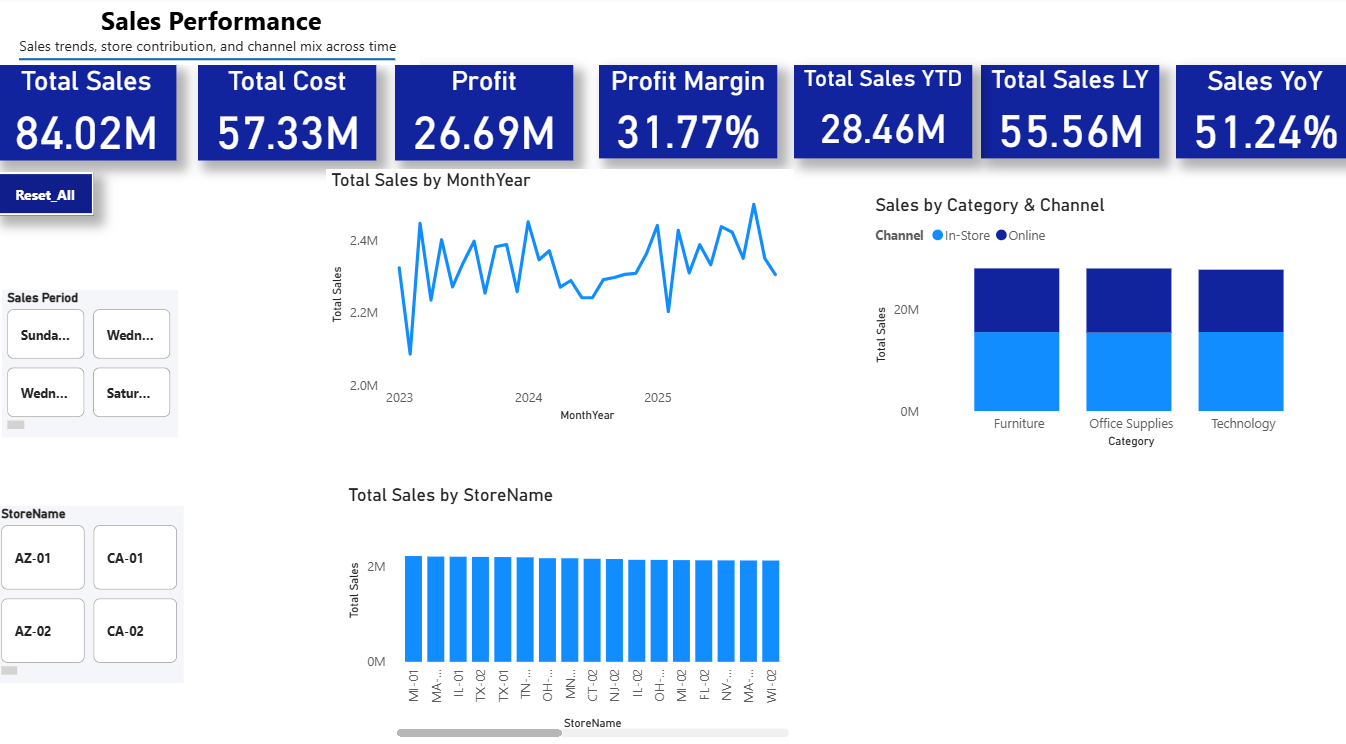

This screenshot's page, from the dashboard's own definition file:
{"tool":"powerbi","page":{"name":"Sales Performance","canvas":[1280,720],"ordinal":1},"visuals":[{"type":"card","title":"Total Sales","fields":{"Values":["_Measures.Total Sales"]},"box":[0,64,170,90],"z":0},{"type":"card","title":"Total Cost","fields":{"Values":["_Measures.Total Cost"]},"box":[190,64,168,90],"z":1000},{"type":"card","title":"Profit","fields":{"Values":["_Measures.Profit"]},"box":[376,64,168,90],"z":2000},{"type":"card","title":"Profit Margin","fields":{"Values":["_Measures.Profit Margin %"]},"box":[568,64,168,88],"z":3000},{"type":"advancedSlicerVisual","fields":{"Values":["DimStore.StoreName"]},"box":[0,480.1,176.6,166.7],"z":4000},{"type":"advancedSlicerVisual","title":"Sales Period","fields":{"Values":["DimDate.MonthYear"]},"box":[5.4,276.3,165.8,138.6],"z":5000},{"type":"card","title":"Sales YoY","fields":{"Values":["_Measures.Sales YoY %"]},"box":[1112,64,168,88],"z":6000},{"type":"card","title":"Total Sales LY","fields":{"Values":["_Measures.Total Sales LY"]},"box":[928,64,168,88],"z":7000},{"type":"card","title":"Total Sales YTD","fields":{"Values":["_Measures.Total sales YTD"]},"box":[752,64,168,88],"z":8000},{"type":"textbox","box":[0,0,399.4,63.6],"z":9000},{"type":"shape","box":[21.5,53.7,354.6,9.9],"z":10000},{"type":"clusteredColumnChart","fields":{"Category":["DimStore.StoreName"],"Y":["_Measures.Total Sales"]},"box":[326.9,459.4,425.4,243.6],"z":11000},{"type":"lineChart","fields":{"Category":["DimDate.MonthYear"],"Y":["_Measures.Total Sales"]},"box":[310.7,162.1,441.5,242.7],"z":12000},{"type":"columnChart","title":"Sales by Category &  Channel","fields":{"Category":["DimProduct.Category"],"Y":["_Measures.Total Sales"],"Series":["FactSales.Channel"]},"box":[823.9,185.4,441.5,243.6],"z":13000},{"type":"actionButton","box":[0,164.9,92.4,40.8],"z":14000}]}

Visuals, with their boxes in screenshot pixels (x1, y1, x2, y2), scaled from the page's 1280x720 canvas onto the 1346x744 screenshot:
"Total Sales" card: [0,66,179,159]
"Total Cost" card: [200,66,376,159]
"Profit" card: [395,66,572,159]
"Profit Margin" card: [597,66,774,157]
advancedSlicerVisual - DimStore.StoreName: [0,496,186,668]
"Sales Period" advancedSlicerVisual: [6,286,180,429]
"Sales YoY" card: [1169,66,1345,157]
"Total Sales LY" card: [976,66,1153,157]
"Total Sales YTD" card: [791,66,967,157]
textbox: [0,0,420,66]
shape: [23,55,395,66]
clusteredColumnChart - DimStore.StoreName x _Measures.Total Sales: [344,475,791,726]
lineChart - DimDate.MonthYear x _Measures.Total Sales: [327,168,791,418]
"Sales by Category &  Channel" columnChart: [866,192,1331,443]
actionButton: [0,170,97,213]
